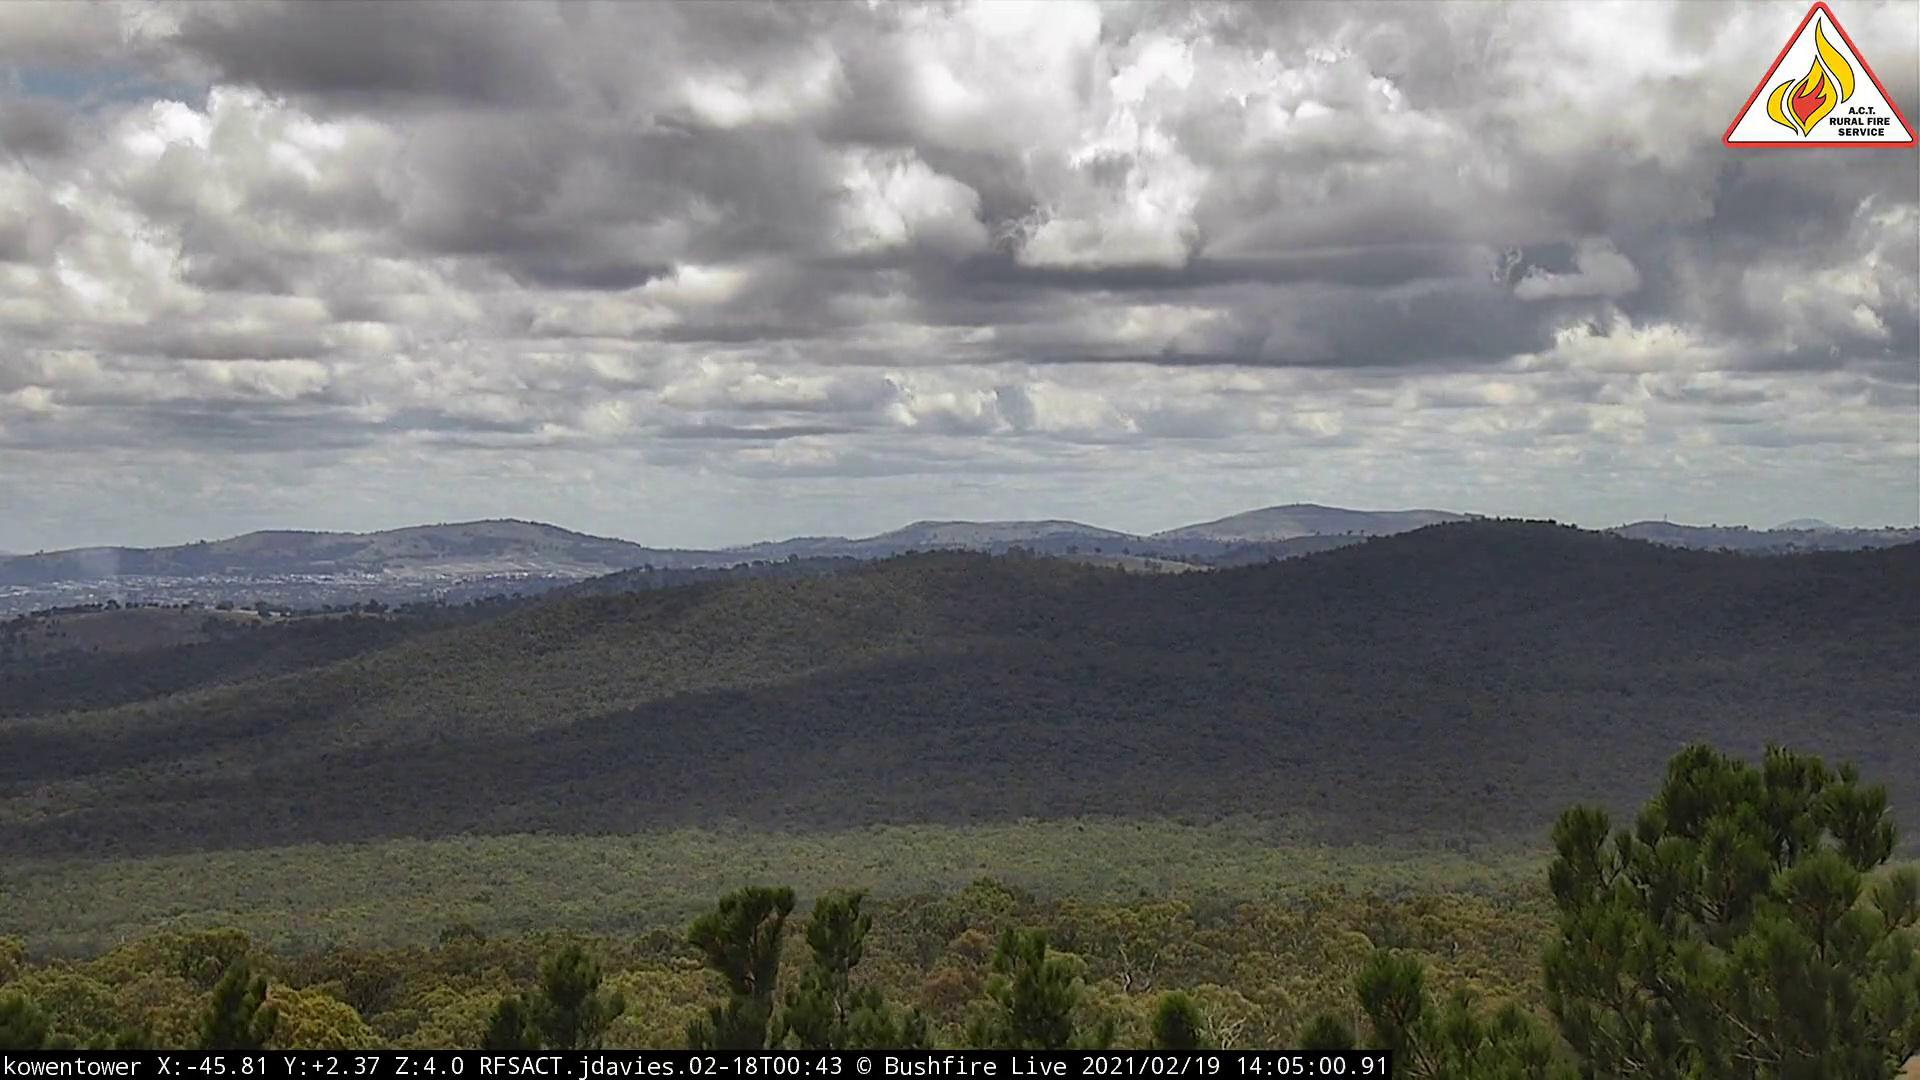Smoke: (102, 572, 136, 620)
